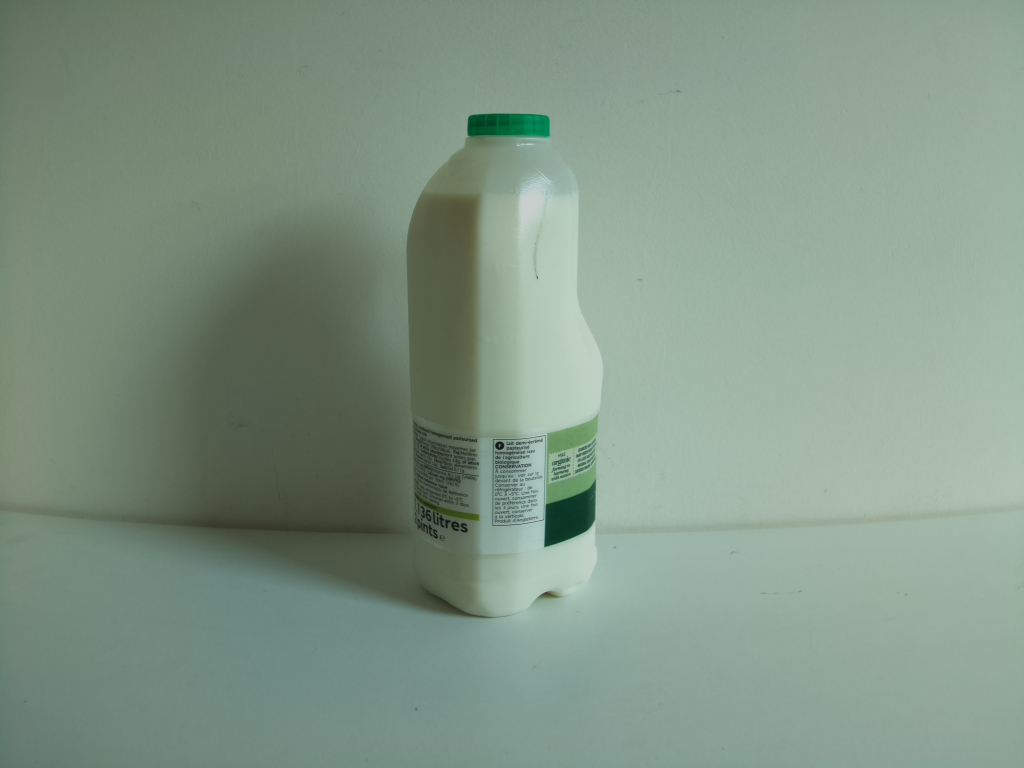milk: (403, 112, 608, 628)
